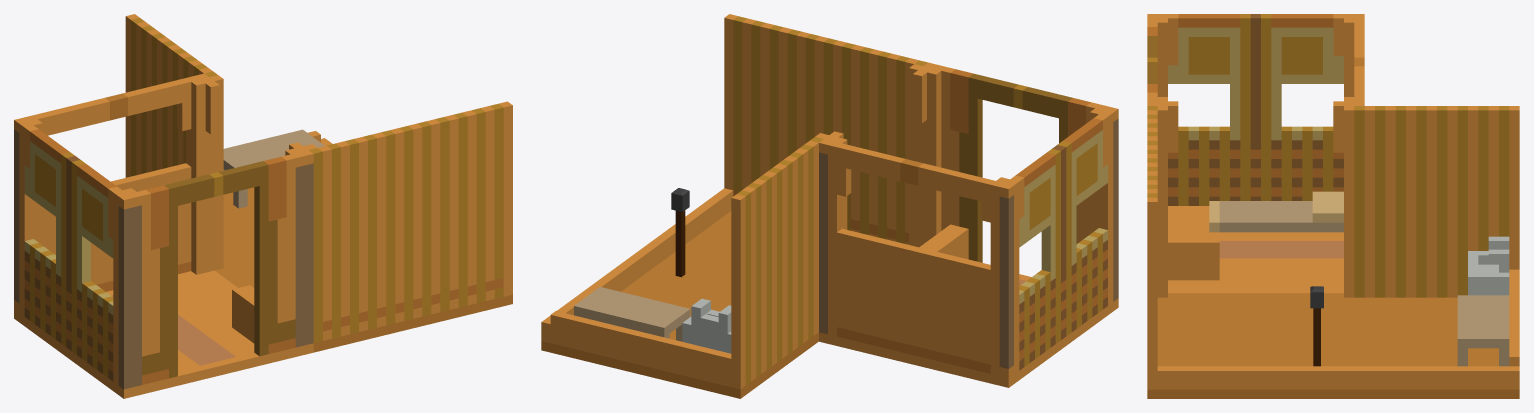
Rendered from torch.FBX.
The picture shows the model from 3 angles, left to right: view 1: azimuth 30°, elevation 25°; view 2: azimuth 150°, elevation 25°; view 3: azimuth 270°, elevation 25°; orthographic projection.
Visible parts, largest first — view 1: default; view 2: default, Box001; view 3: default, Box001.
Boxes of the visible parts, x1,y1,x2,y2 form: default: (14, 14, 512, 398); default: (541, 14, 1118, 398); Box001: (671, 188, 689, 277); default: (1147, 14, 1519, 398); Box001: (1310, 286, 1323, 366).
Bounding box in the file's own units: 43 × 21 × 36.
8 materials, 1 textured.
